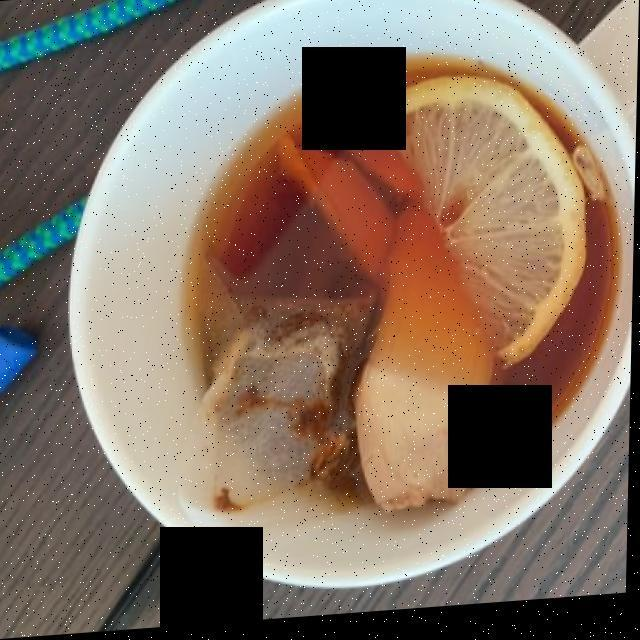tea: (195, 72, 584, 515)
